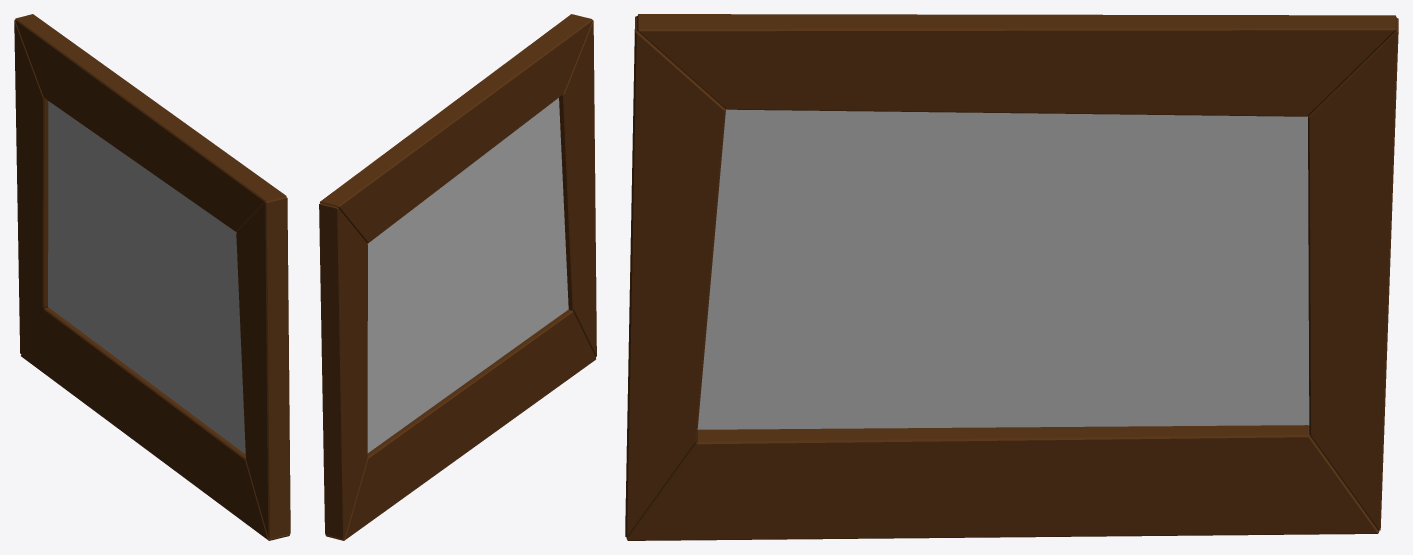
File: Photo_Frame_02.glb
3 views of the same model, side by side, from view 1: azimuth 30°, elevation 25°; view 2: azimuth 150°, elevation 25°; view 3: azimuth 270°, elevation 25° (orthographic). The views are drawn at different scales.
Parts seen in each view (by area): view 1: Picture1; view 2: Picture1; view 3: Picture1.
Boxes of the visible parts, x1=… form: Picture1: x1=14, y1=14, x2=290, y2=540; Picture1: x1=319, y1=14, x2=596, y2=540; Picture1: x1=625, y1=14, x2=1398, y2=540.
Bounding box in the file's own units: 0.0477 × 0.6896 × 0.944.
